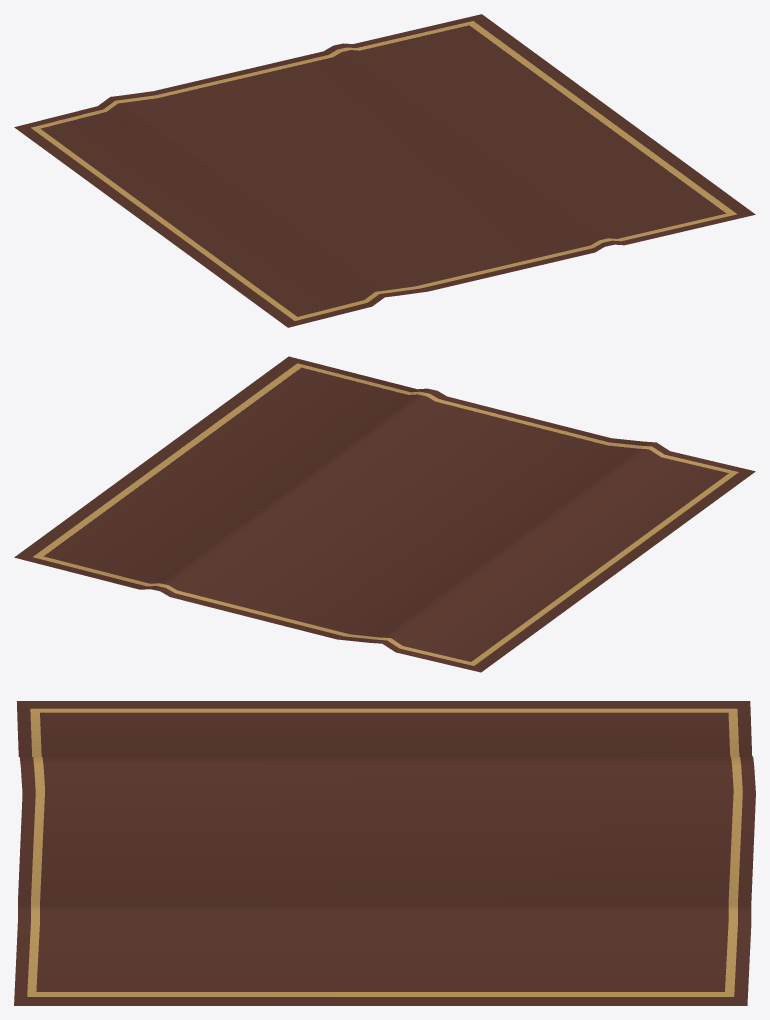
File: Carpet_2.glb
3 views of the same model, one above another, from view 1: azimuth 30°, elevation 25°; view 2: azimuth 150°, elevation 25°; view 3: azimuth 270°, elevation 25° (orthographic). The views are drawn at different scales.
Visible parts, largest first — view 1: Carpet_2; view 2: Carpet_2; view 3: Carpet_2.
Boxes of the visible parts, <box> form: Carpet_2: <box>14,14,755,327</box>; Carpet_2: <box>14,356,755,672</box>; Carpet_2: <box>14,701,755,1005</box>.
Size of the model in its own units: 3.09 by 0.0367 by 3.18.
